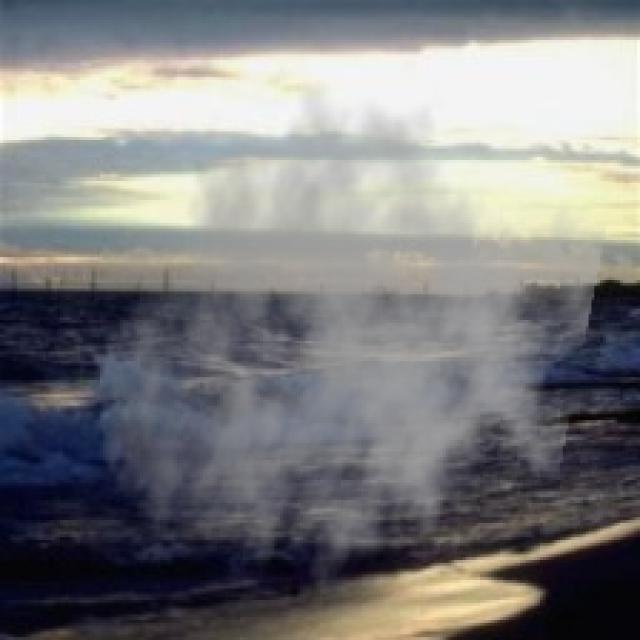smoke: (94, 80, 609, 617)
